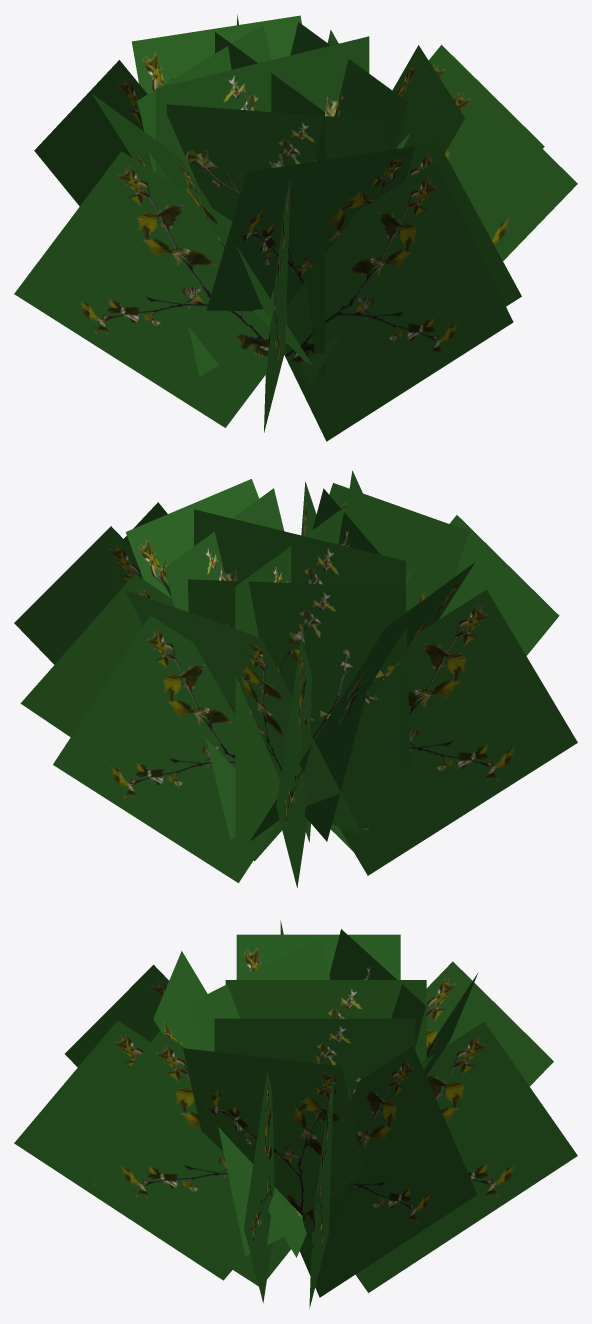
The model's file is bush1.FBX.
3 views of the same model, one above another, from view 1: azimuth 30°, elevation 25°; view 2: azimuth 150°, elevation 25°; view 3: azimuth 270°, elevation 25° (orthographic). The views are drawn at different scales.
Parts seen in each view (by area): view 1: bush1; view 2: bush1; view 3: bush1.
Part boxes in pixels (x1,y1,x2,y2): bush1: (14,14,577,441); bush1: (14,470,577,887); bush1: (14,920,577,1309).
Bounding box in the file's own units: 11.87 × 7.06 × 11.56.
